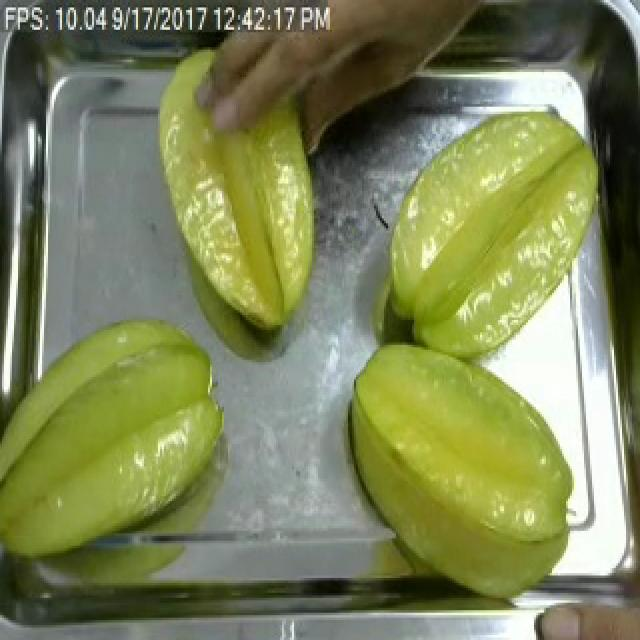fruit: (366, 94, 624, 375), (338, 332, 584, 610), (0, 303, 240, 573), (148, 35, 332, 345)
